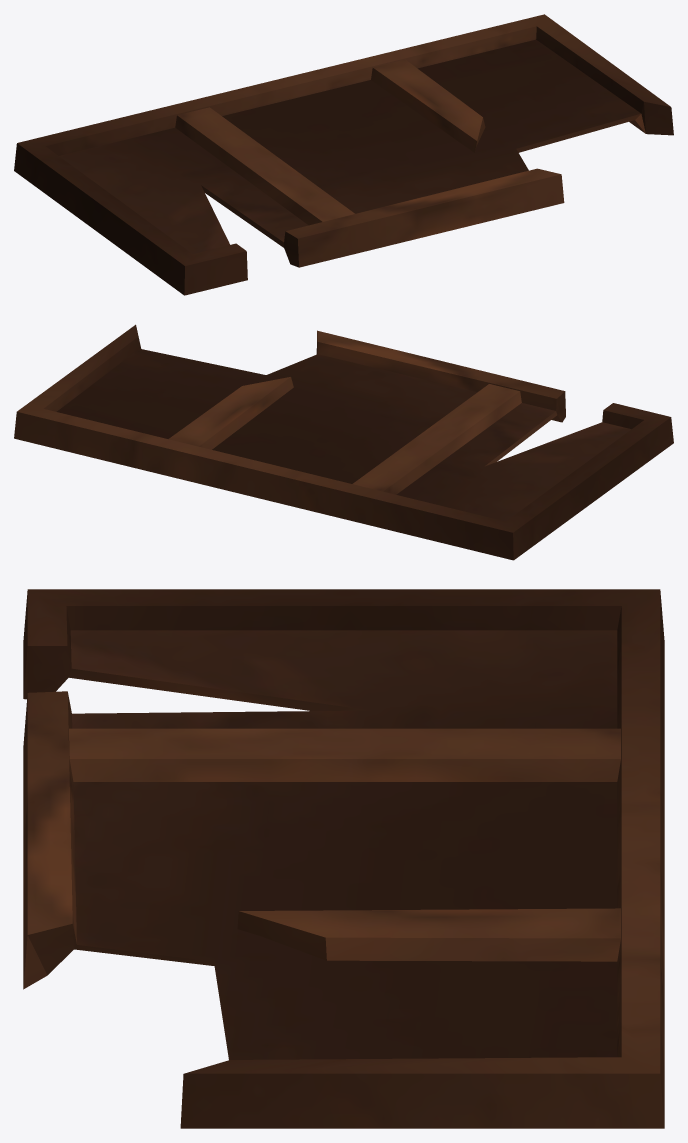
The model's file is Caixa_4_Tampa_quebrada.glb.
The picture shows the model from 3 angles, top to bottom: view 1: azimuth 30°, elevation 25°; view 2: azimuth 150°, elevation 25°; view 3: azimuth 270°, elevation 25°; orthographic projection. The views are drawn at different scales.
Visible parts, largest first — view 1: Caixa.4.Tampa.quebrada; view 2: Caixa.4.Tampa.quebrada; view 3: Caixa.4.Tampa.quebrada.
Boxes of the visible parts, x1,y1,x2,y2 form: Caixa.4.Tampa.quebrada: [14, 14, 673, 295]; Caixa.4.Tampa.quebrada: [14, 324, 673, 560]; Caixa.4.Tampa.quebrada: [23, 589, 664, 1128].
Size of the model in its own units: 1.44 by 0.0751 by 0.7997.
1 material, 1 textured.
